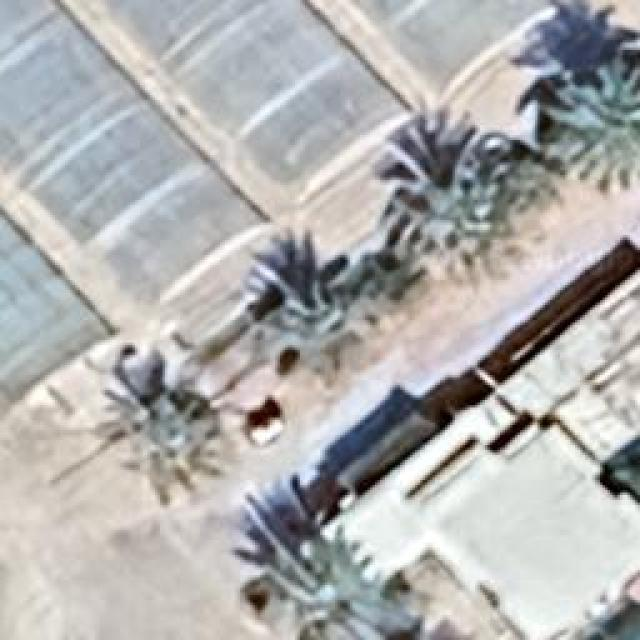PalmTree: (370, 110, 500, 250), (250, 524, 405, 638), (247, 244, 385, 366), (89, 352, 209, 480), (542, 58, 638, 198)
